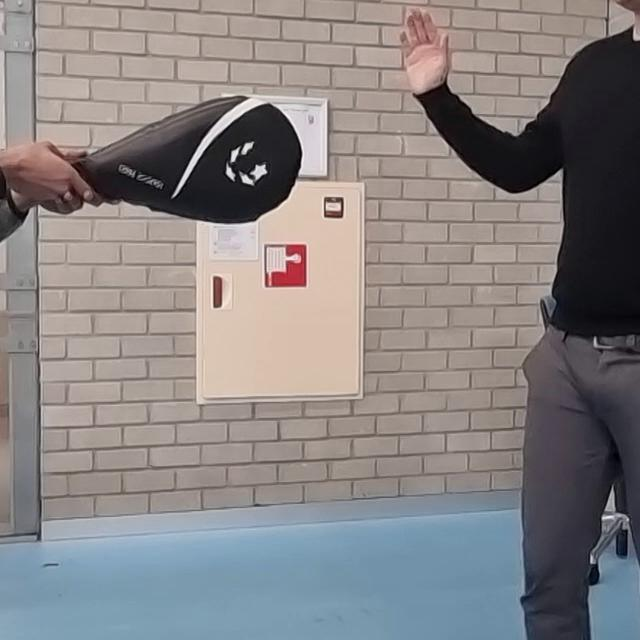paddle: (69, 93, 304, 224)
